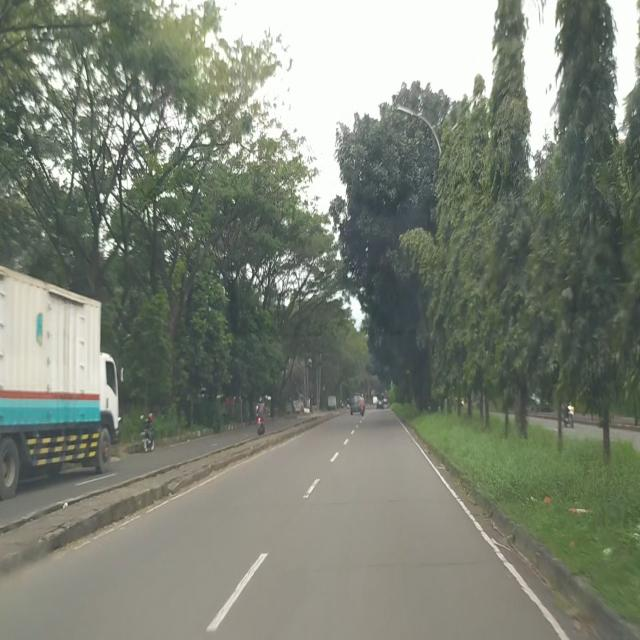Sewer Cover: (358, 560, 499, 572), (309, 497, 424, 506)
